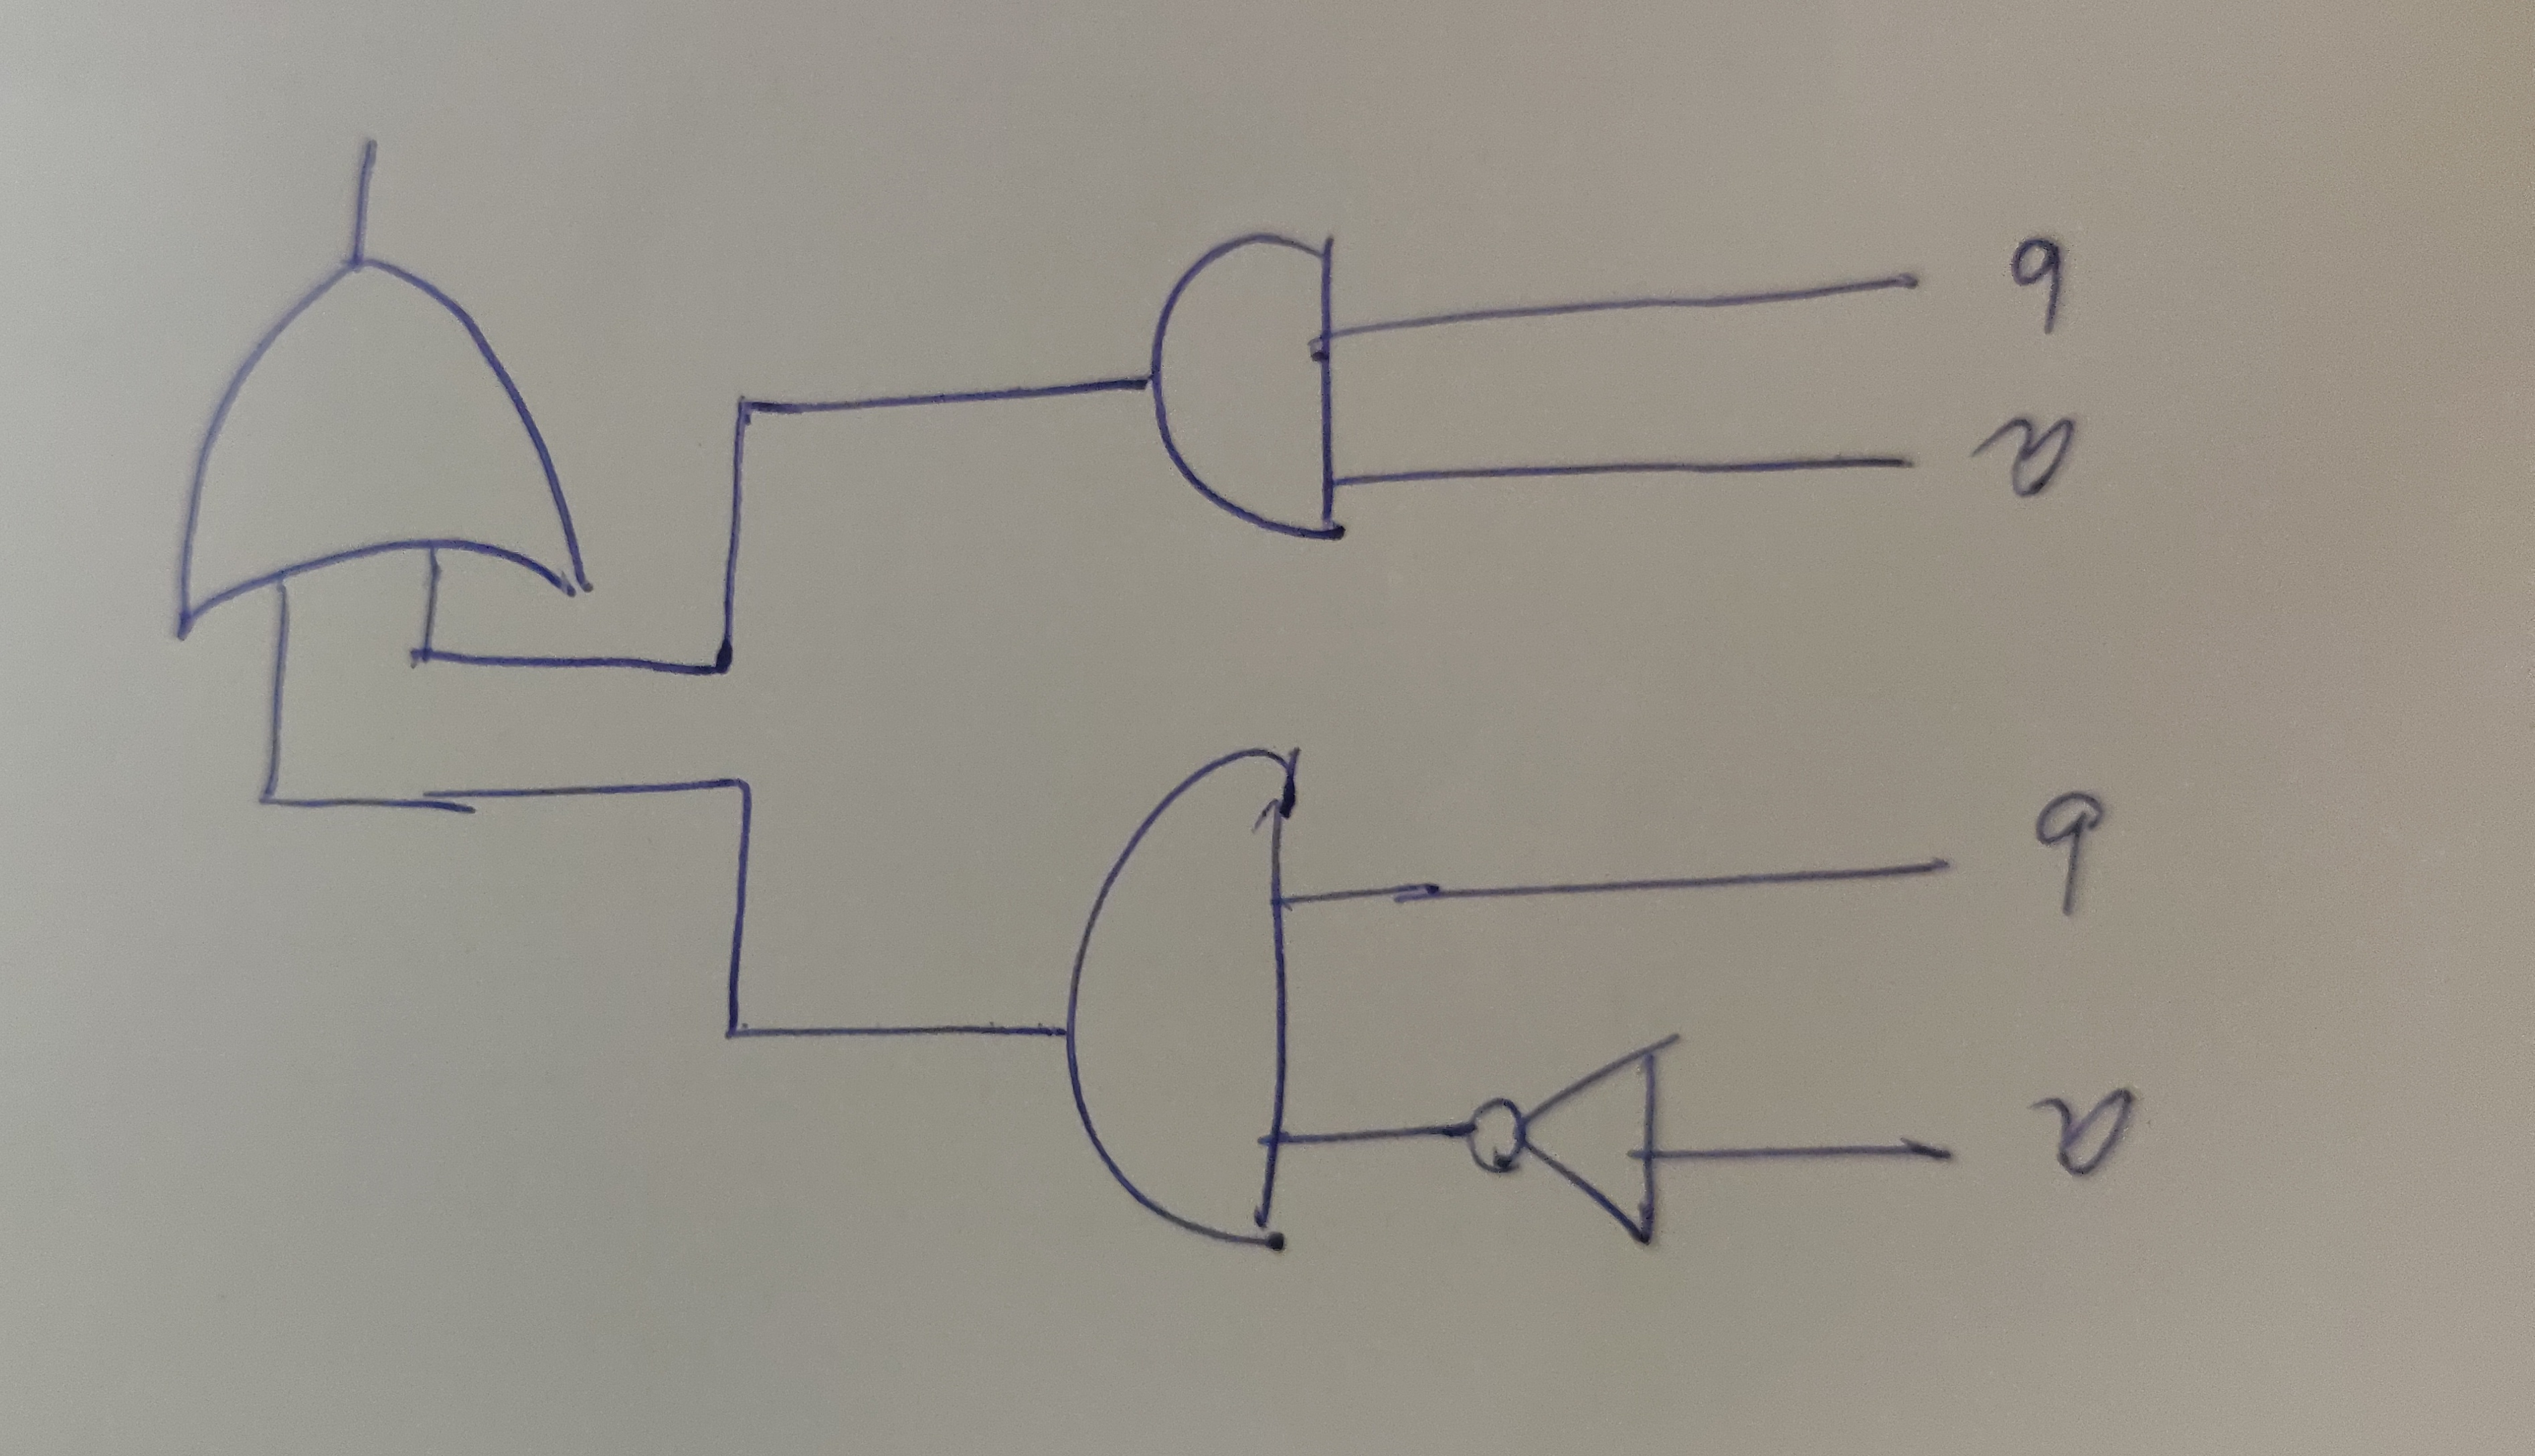and: (1022, 702, 1389, 1324), (1106, 186, 1424, 590)
not: (1433, 1012, 1713, 1285)
or: (151, 214, 601, 648)
